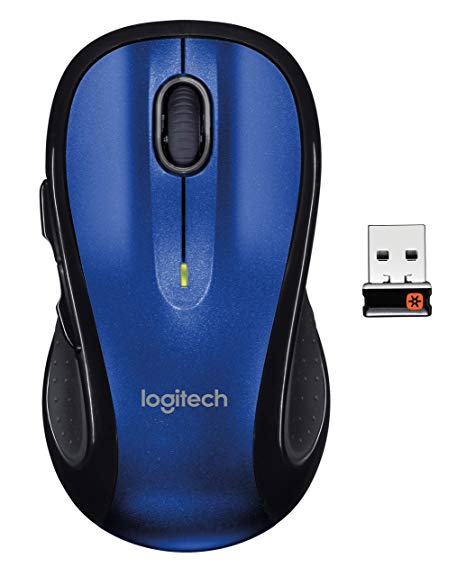Mouse: (28, 15, 336, 562)
